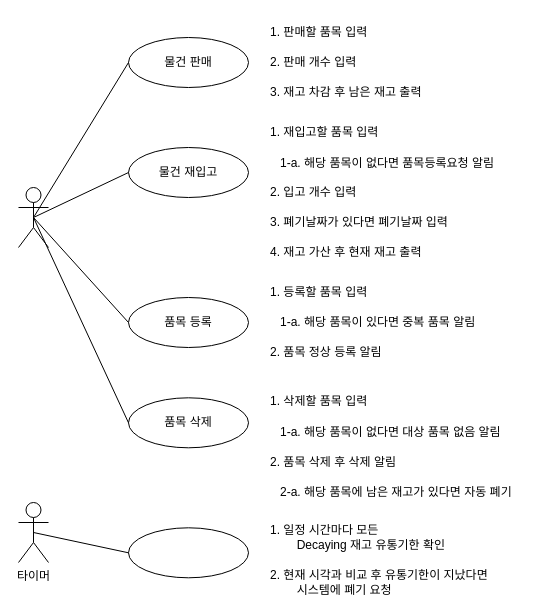
Some shapes in this 556 by 615 pixel diagram are drawn without their labels. Each missing label, with the centre of its shape:
"재고 폐기" goes at (188,552).
"점주" goes at (33,217).
